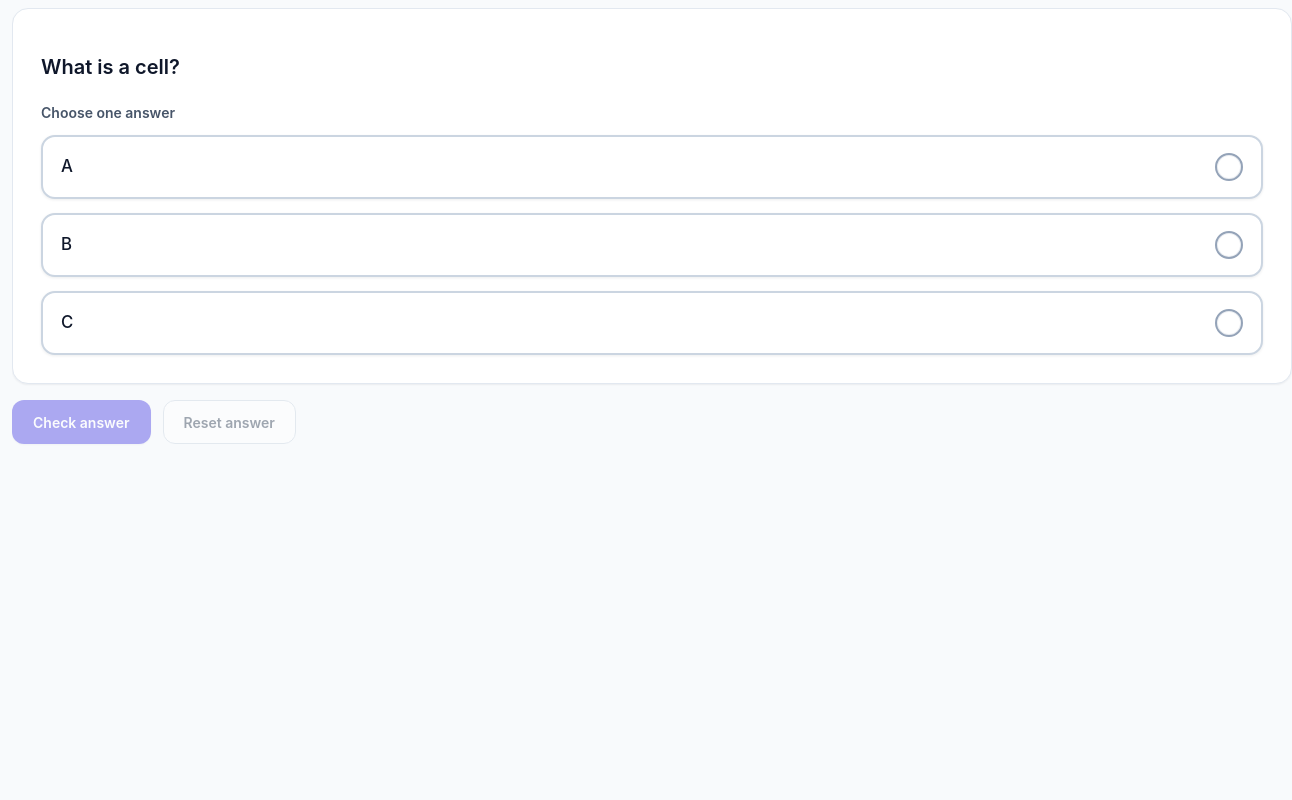
PracticeRunner attempt payload › incorrect server result displays Not quite
Step 1. Click the radio button "A" → (67, 166), box [41,135,1263,199]
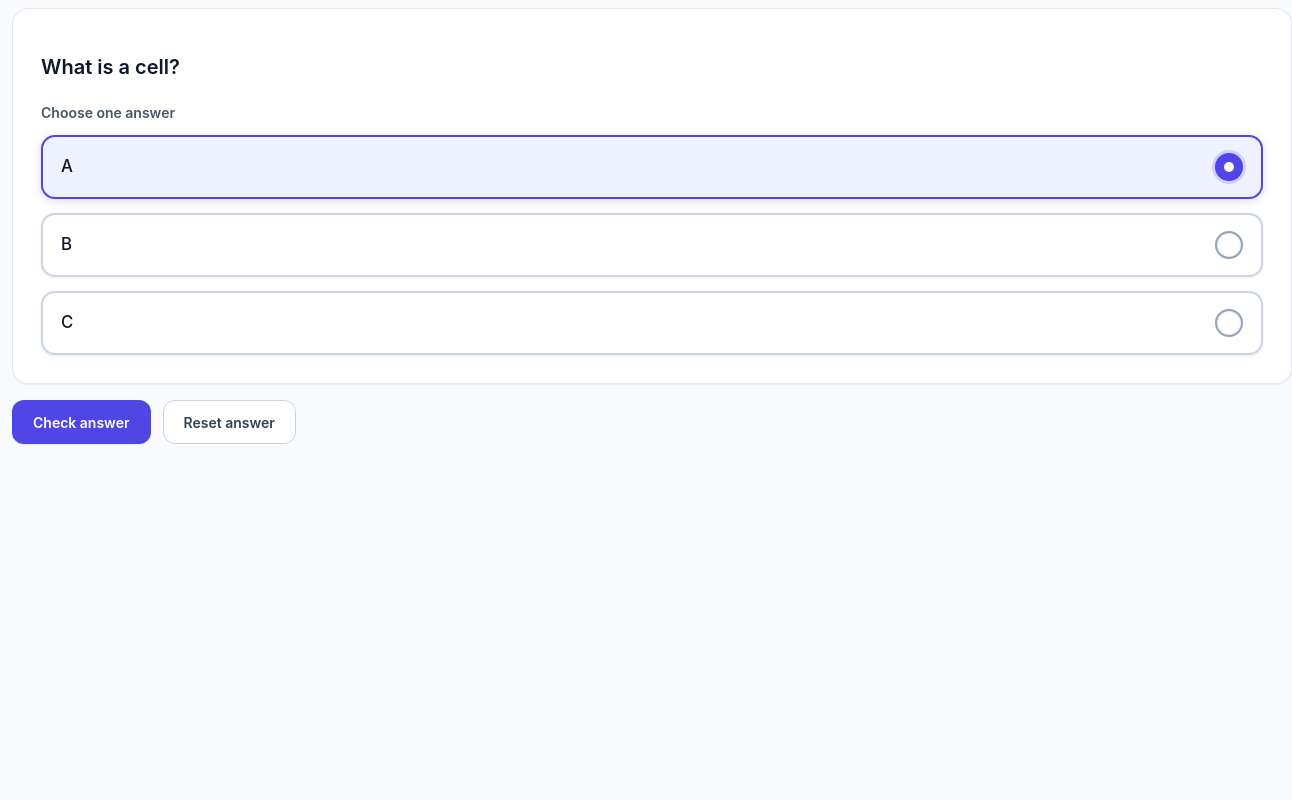
Step 2. Click the button "Check answer" → (81, 422), box [12,400,150,444]
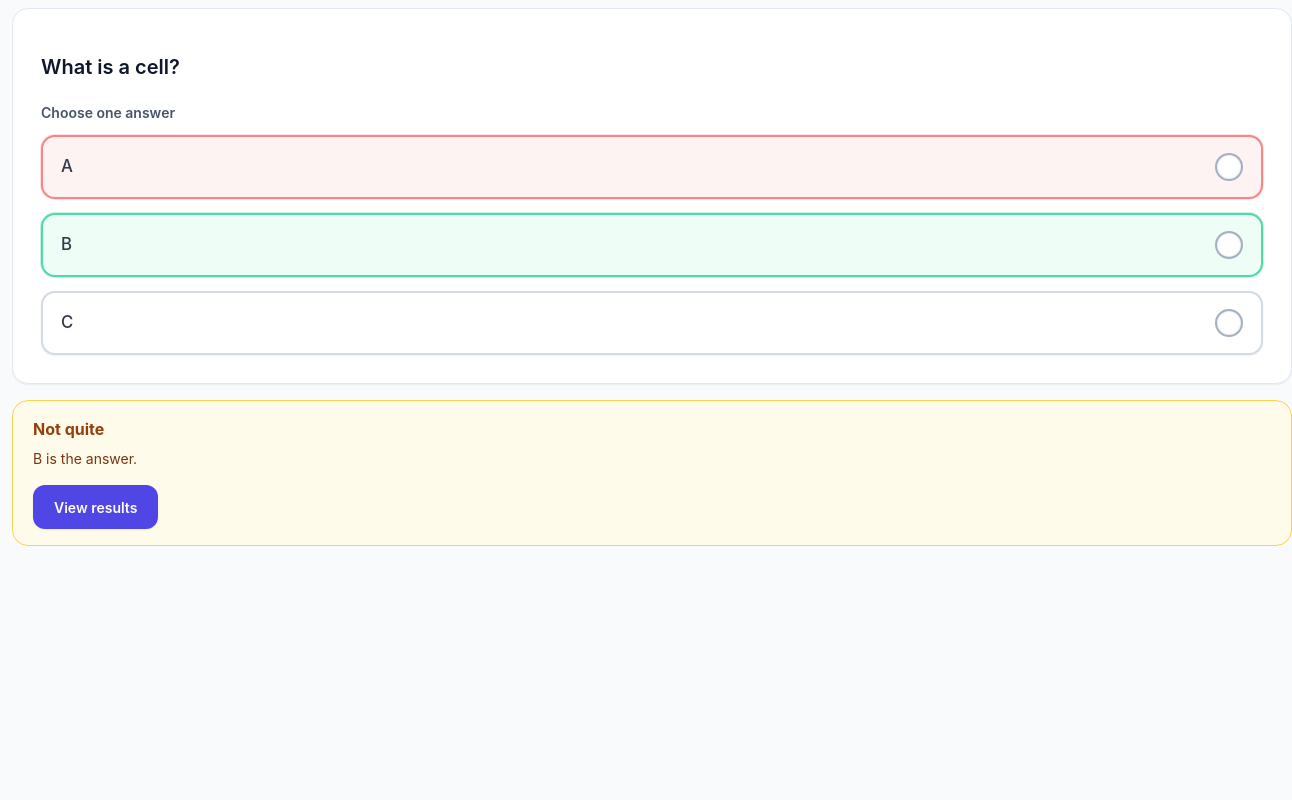
Expected: the element with test id "practice-feedback-panel" is shown, [12,400,1291,546]
Expected: the text with test id "practice-feedback-title" reads "Not quite", [33,419,104,439]
Expected: the text with test id "practice-feedback-explanation" reads "B is the answer.", [33,450,137,467]
